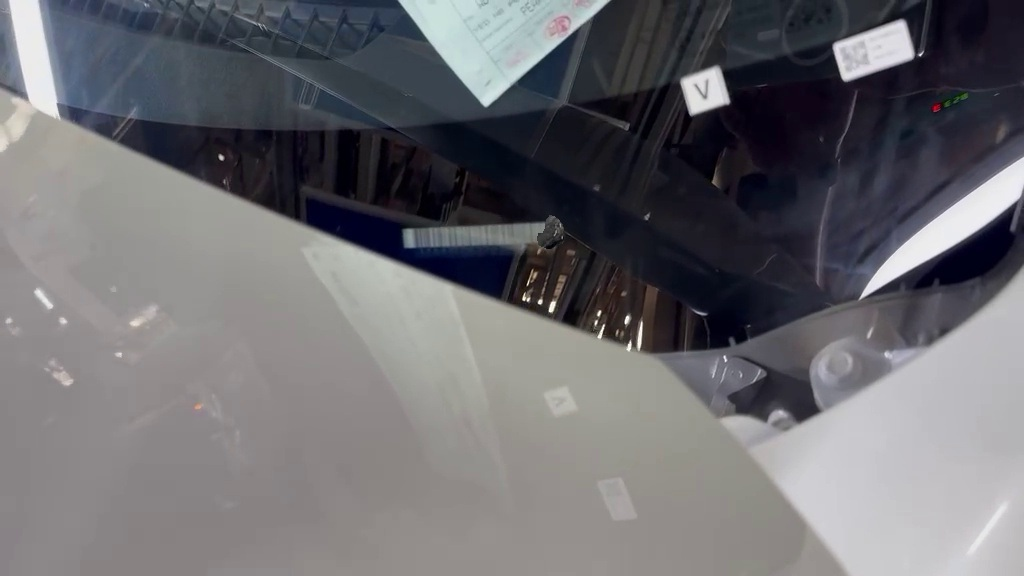hinge: (379, 208, 585, 272)
